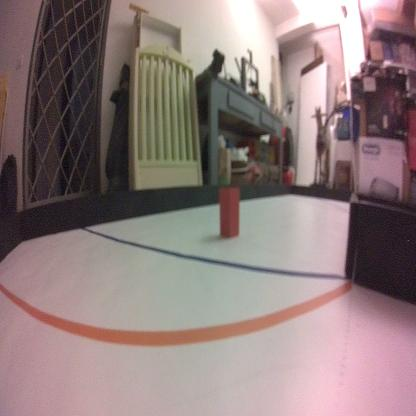red: (219, 185, 240, 239)
